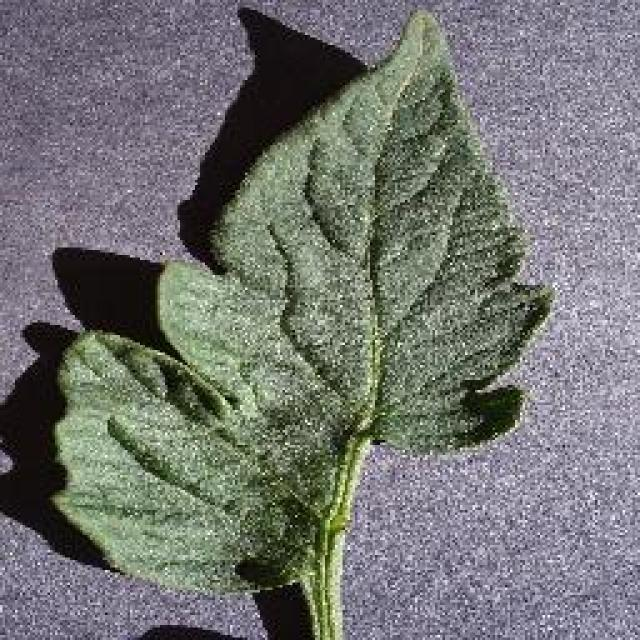Tomato___healthy: (50, 4, 557, 638)
